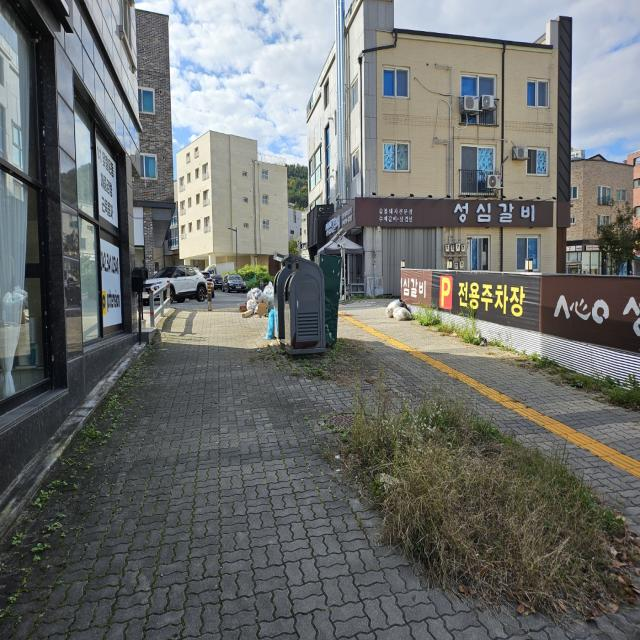CleanNet: (269, 249, 326, 355)
General Waste: (241, 276, 282, 318), (386, 299, 414, 327)
